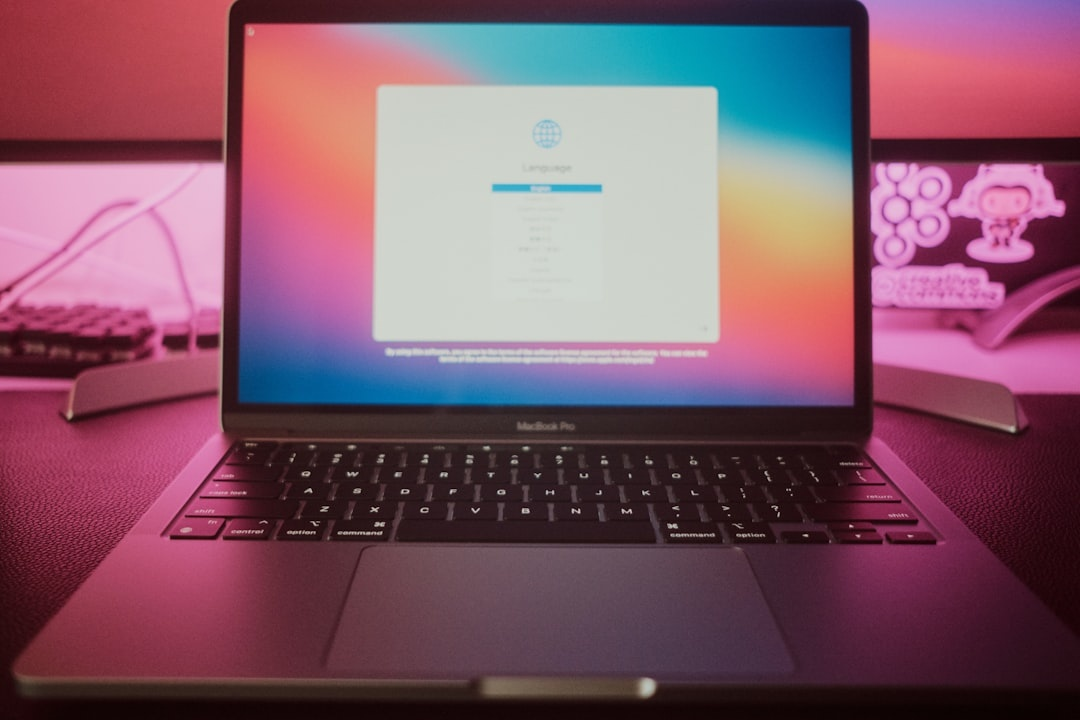laptop: (27, 1, 1080, 720)
